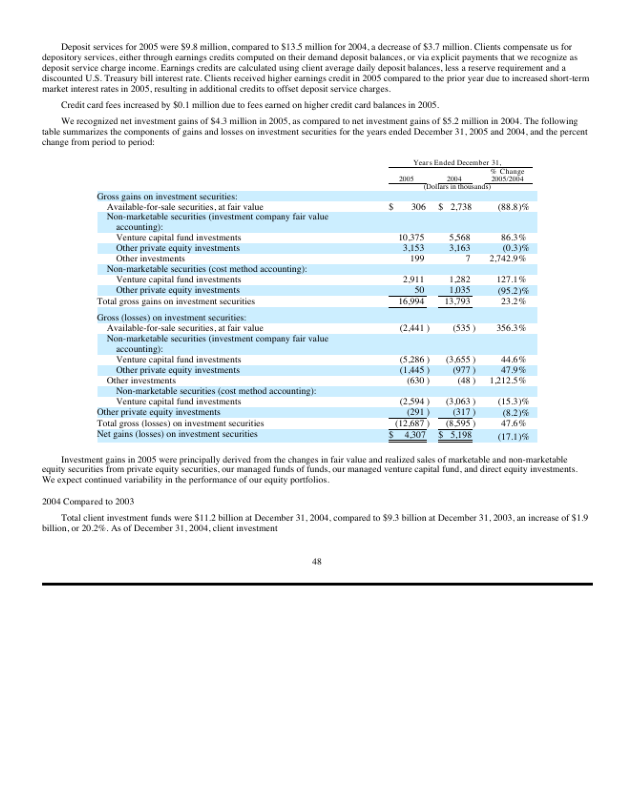table: (383, 157, 536, 442)
